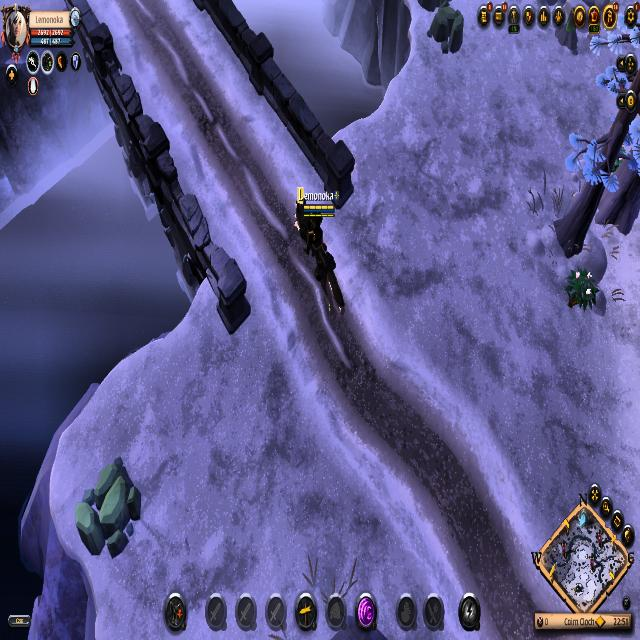fiber tier 3: (568, 262, 598, 324)
rock tier 3: (75, 455, 142, 560), (428, 2, 466, 58)
